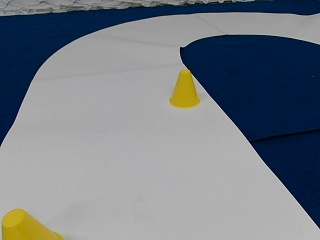cone: (2, 207, 62, 238), (169, 70, 200, 107)
